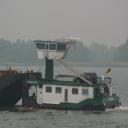tugboat: (23, 38, 123, 114)
